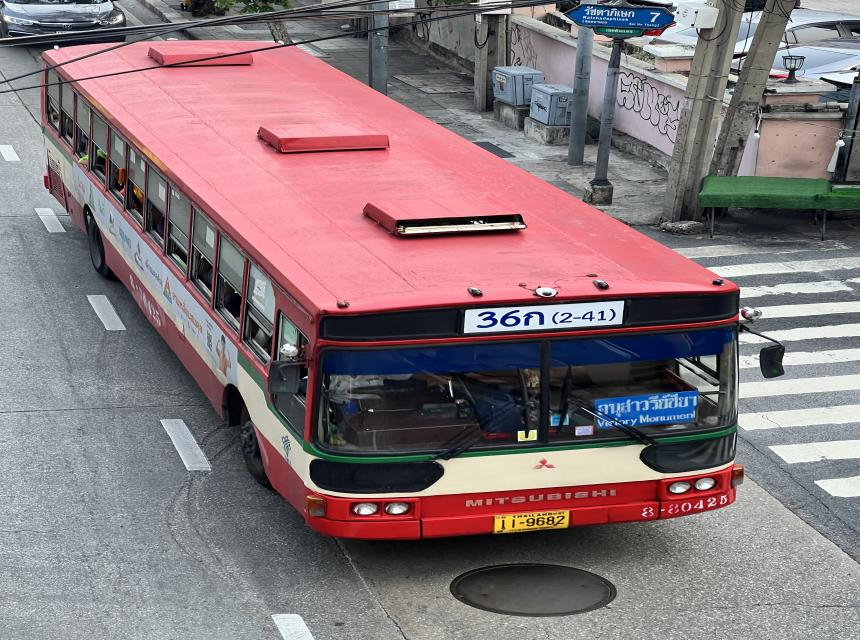BMTA-bus: (38, 40, 743, 544)
Bus Line Number: (460, 306, 624, 332)
Bus Side Number: (639, 494, 728, 518)
Destination Sign: (592, 394, 700, 426)
